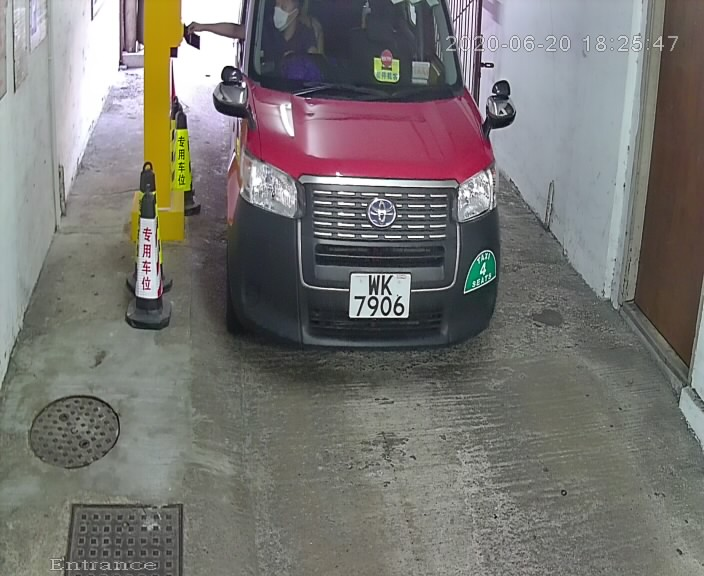taxi: (204, 1, 549, 398)
taxi_mark: (455, 239, 510, 309)
